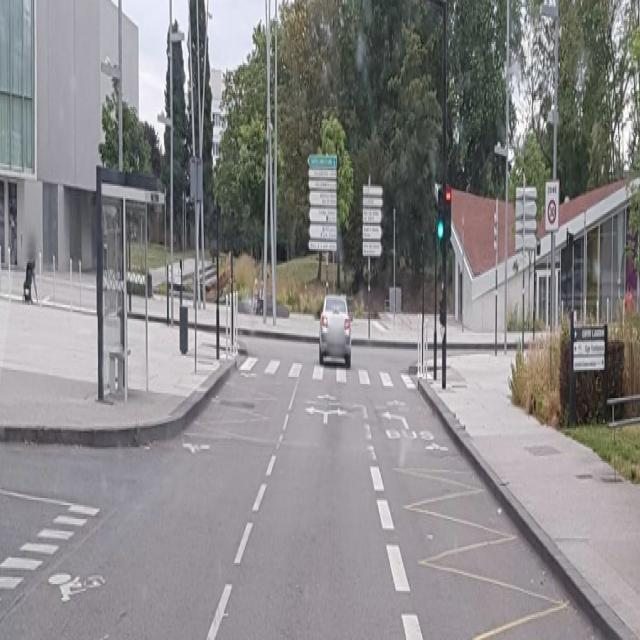speed_30: (547, 200, 557, 224)
